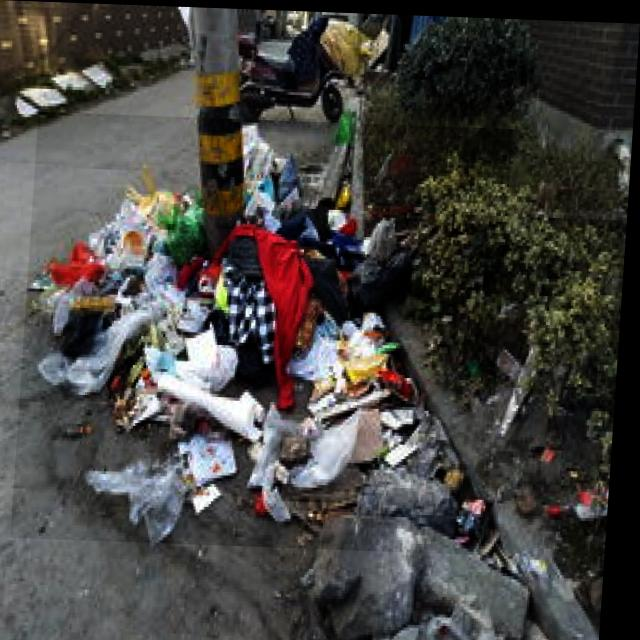garbage: (18, 111, 514, 551)
